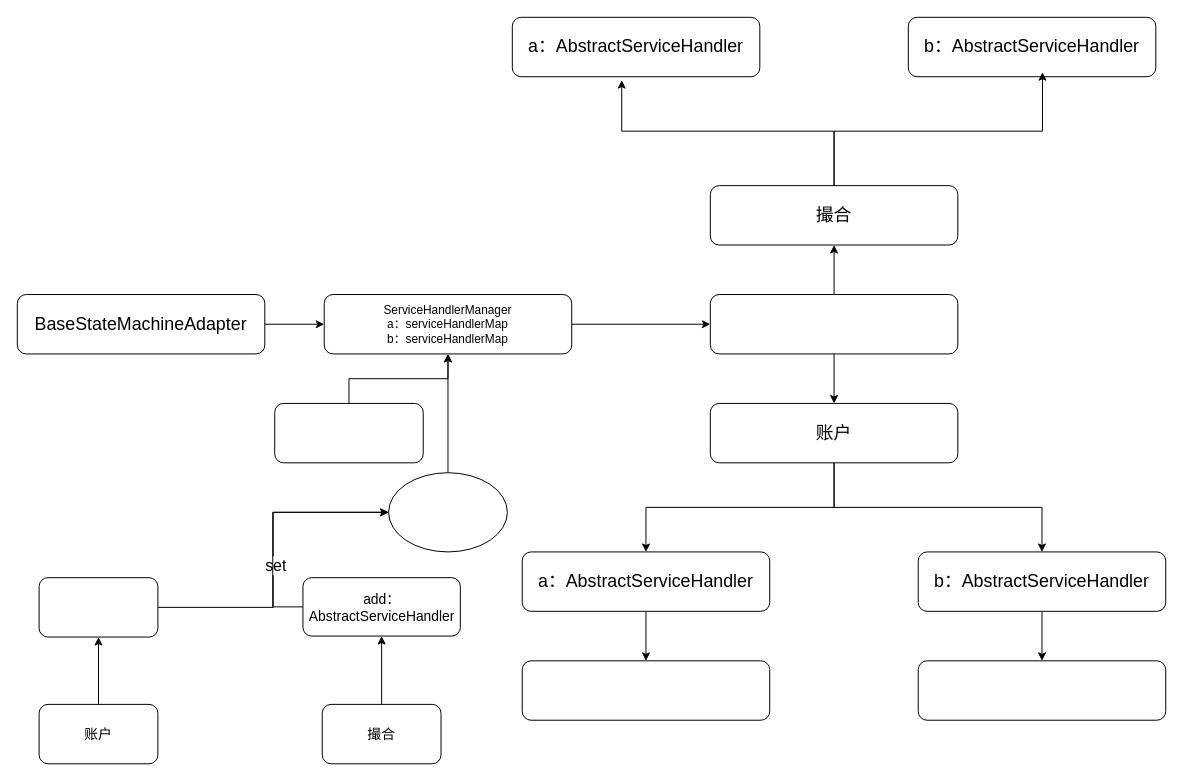
This 1183x781 diagram has some shape labels left out. The centre of each missing label's shape, as x and y in pixels:
"AbstractServiceHandler" goes at pixel 833 324.
"add： processer" goes at pixel 98 607.
"a：ProcessorDispatcher a：processer" goes at pixel 645 690.
"b：ProcessorDispatcher a+b：processer" goes at pixel 1041 690.
"commonDB 保存 切换点位" goes at pixel 447 512.
"默认a，如果apply点位大于切换点位，b" goes at pixel 348 432.
